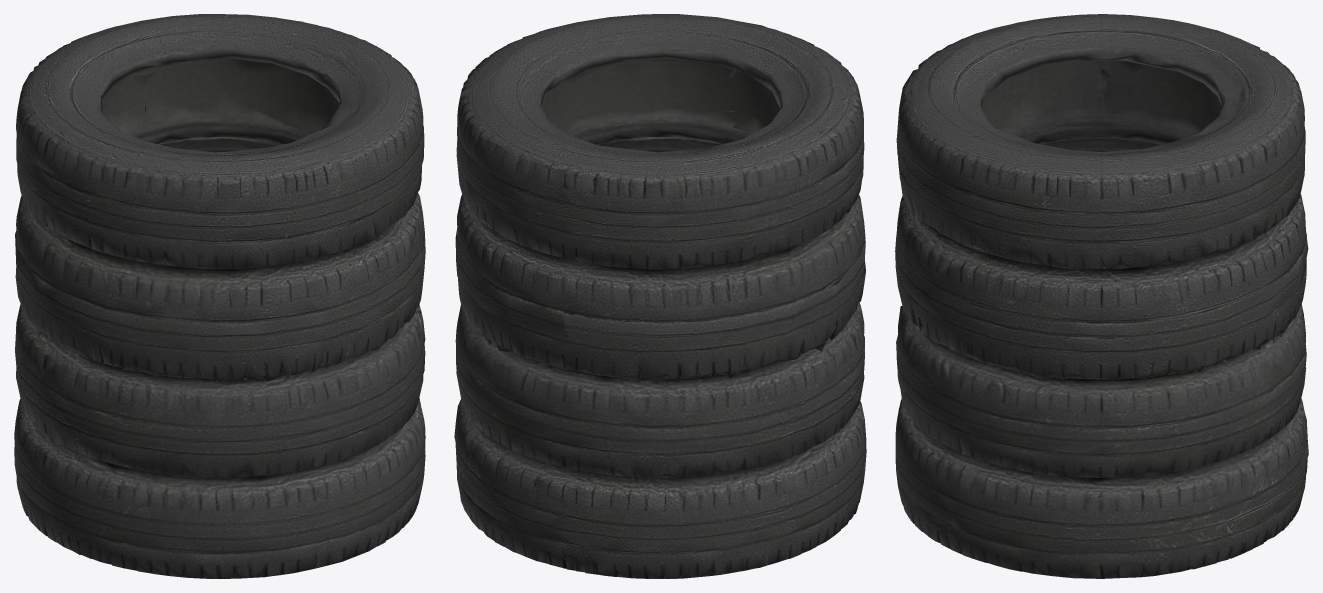
Rendered from tyre_stack.glb.
3 renders of one model, left to right at view 1: azimuth 30°, elevation 25°; view 2: azimuth 150°, elevation 25°; view 3: azimuth 270°, elevation 25°, orthographic.
Parts seen in each view (by area): view 1: tripo_node_c7bb1973-3d7b-44ef-92ee-0b6400214705; view 2: tripo_node_c7bb1973-3d7b-44ef-92ee-0b6400214705; view 3: tripo_node_c7bb1973-3d7b-44ef-92ee-0b6400214705.
Part boxes in pixels (x1,y1,x2,y2): tripo_node_c7bb1973-3d7b-44ef-92ee-0b6400214705: (14,14,425,578); tripo_node_c7bb1973-3d7b-44ef-92ee-0b6400214705: (454,14,866,578); tripo_node_c7bb1973-3d7b-44ef-92ee-0b6400214705: (895,14,1308,578).
Size of the model in its own units: 0.8956 by 1 by 0.898.
1 material, 1 textured.
